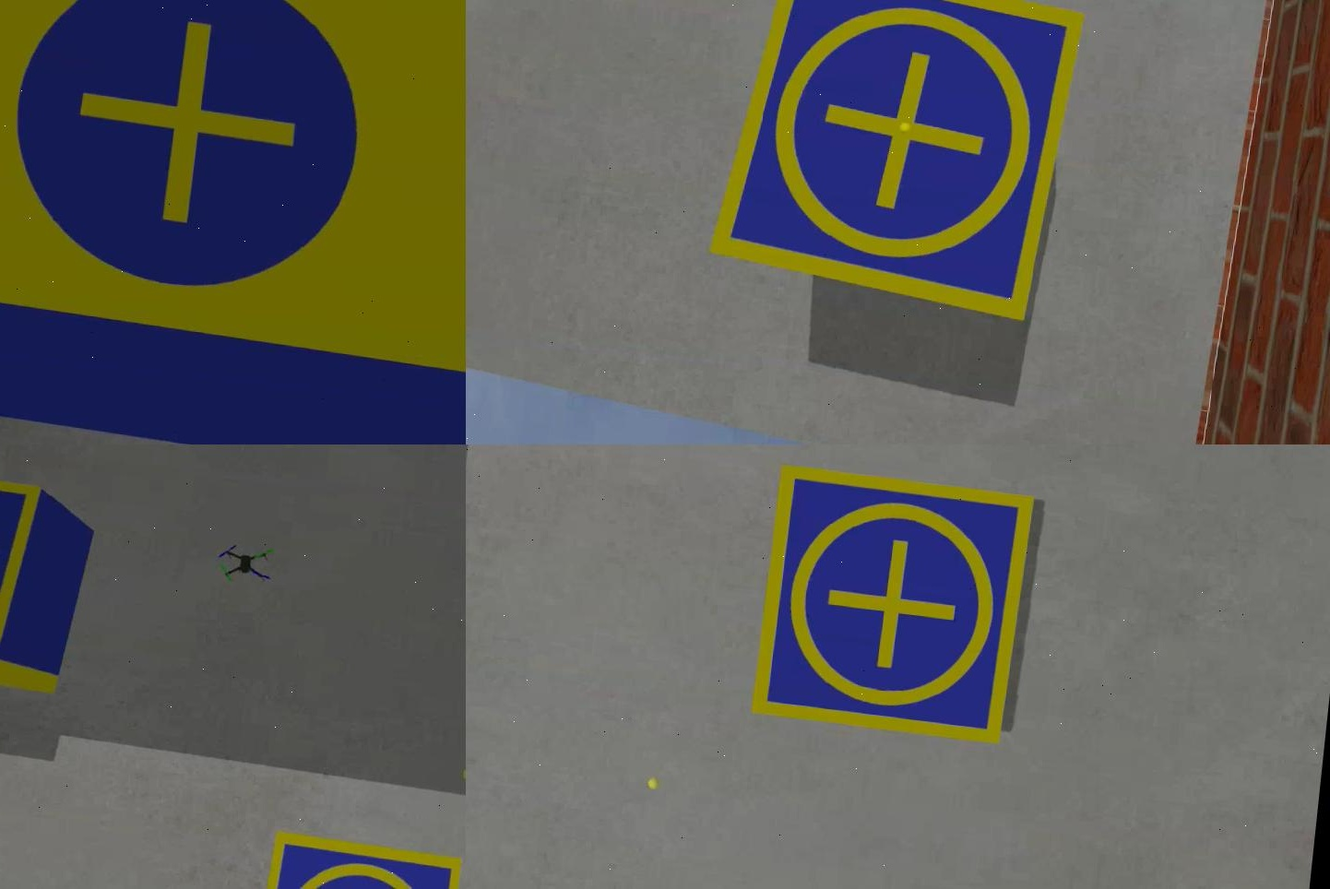large_base: (0, 1, 464, 445)
small_base: (699, 1, 1093, 332), (747, 462, 1035, 745), (241, 831, 461, 889)
